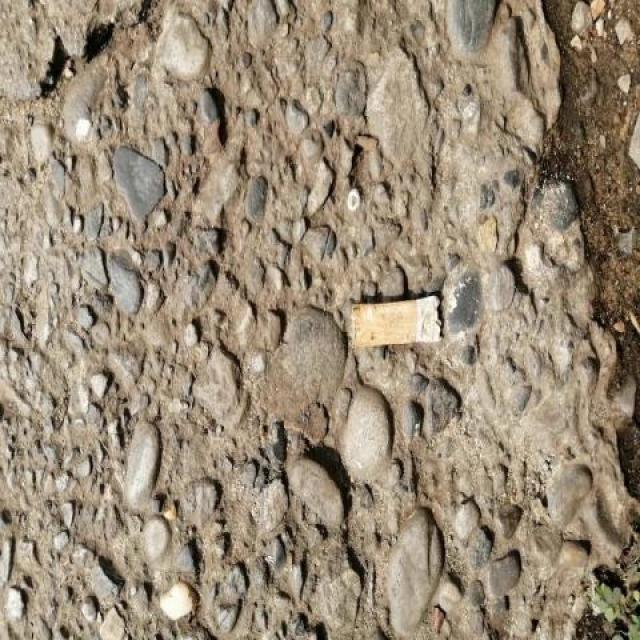non-organic waste: (347, 285, 449, 354)
